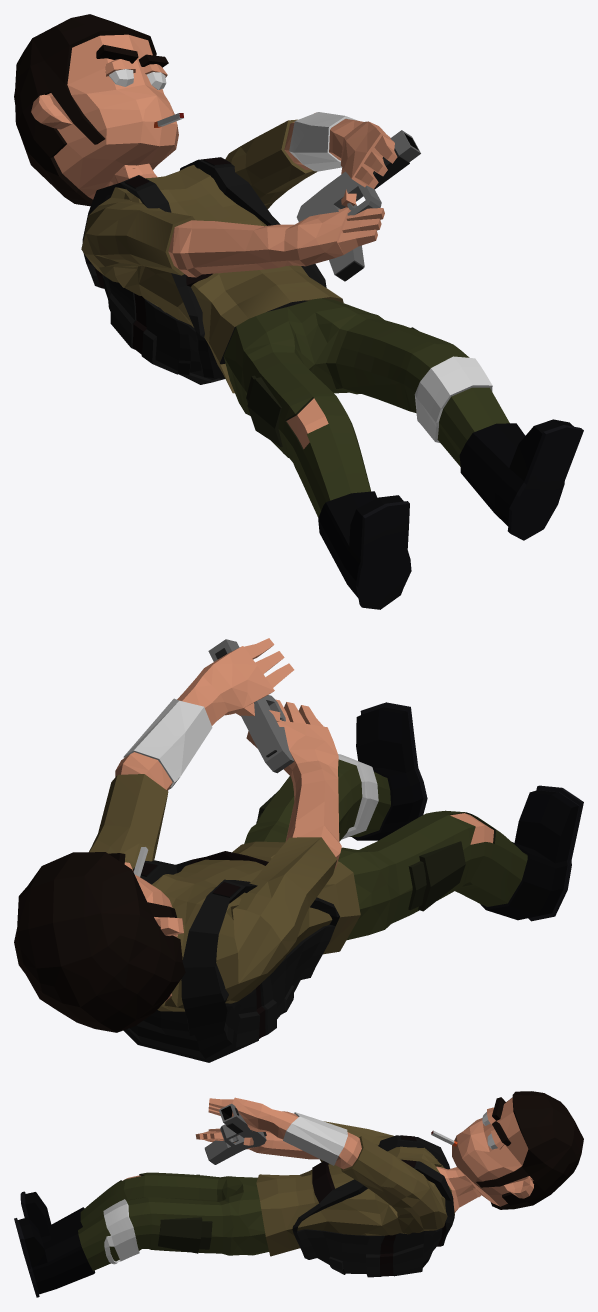
File: frame_0049.obj
3 views of the same model, one above another, from view 1: azimuth 30°, elevation 25°; view 2: azimuth 150°, elevation 25°; view 3: azimuth 270°, elevation 25° (orthographic). The views are drawn at different scales.
Parts seen in each view (by area): view 1: Body, Gun; view 2: Body, Gun; view 3: Body, Gun.
Boxes of the visible parts, left/top/right/bottom form: Body: left=14, top=14, right=583, bottom=609; Gun: left=296, top=130, right=420, bottom=281; Body: left=14, top=638, right=583, bottom=1062; Gun: left=208, top=639, right=293, bottom=773; Body: left=14, top=1091, right=583, bottom=1297; Gun: left=204, top=1103, right=266, bottom=1164.
Bounding box in the file's own units: 1.23 × 1.82 × 4.15.
